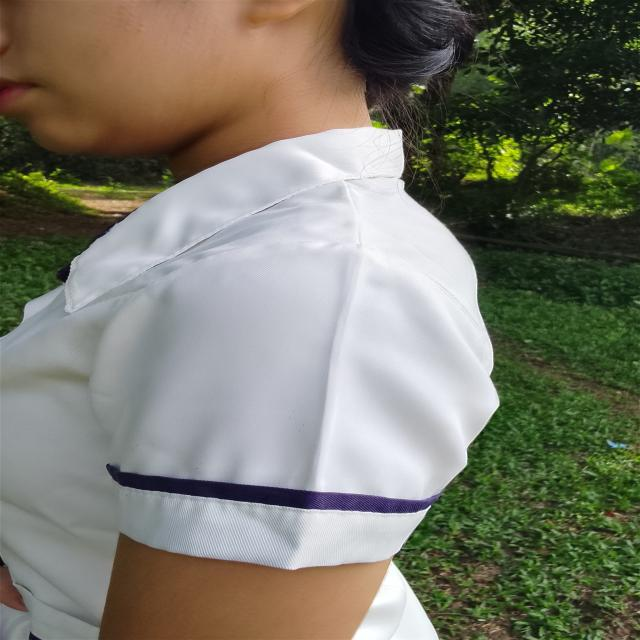education_female_uniform: (0, 102, 535, 627)
